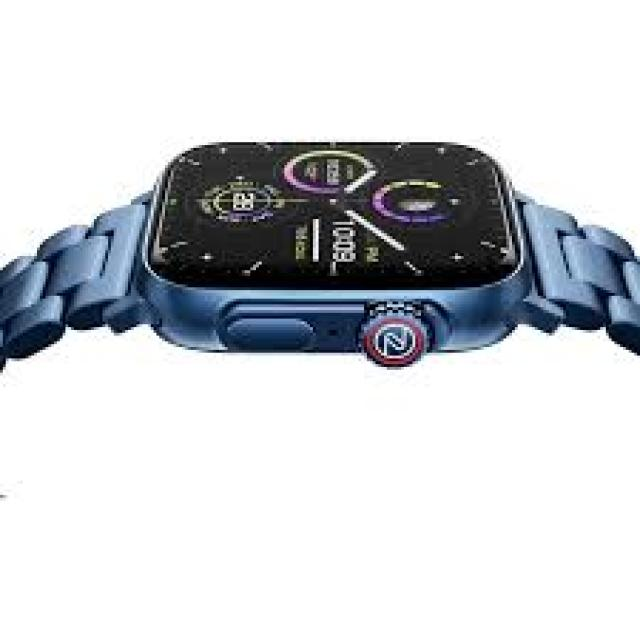objects: (120, 137, 525, 368)
